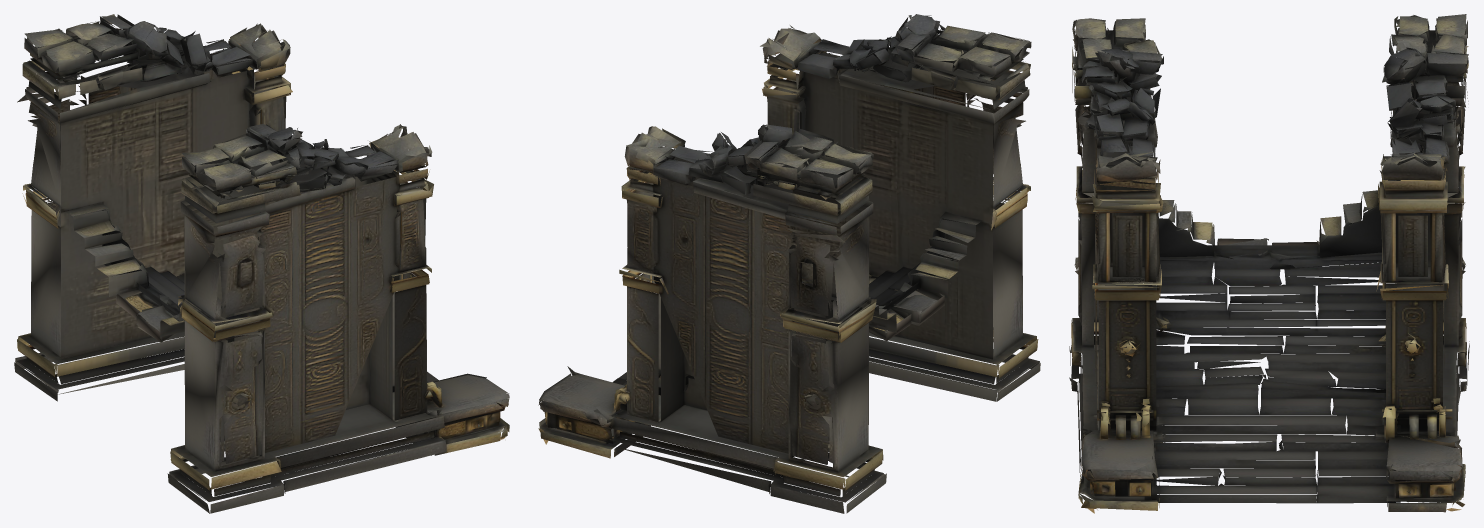
The model's file is ch8_grand_collapsed_stairway_LOD2.glb.
3 renders of one model, left to right at view 1: azimuth 30°, elevation 25°; view 2: azimuth 150°, elevation 25°; view 3: azimuth 270°, elevation 25°, orthographic. The views are drawn at different scales.
Parts seen in each view (by area): view 1: tripo_node_536b5fd1-2f6e-41d4-aba5-11aede7290c5; view 2: tripo_node_536b5fd1-2f6e-41d4-aba5-11aede7290c5; view 3: tripo_node_536b5fd1-2f6e-41d4-aba5-11aede7290c5.
Part boxes in pixels (<box>): tripo_node_536b5fd1-2f6e-41d4-aba5-11aede7290c5: <box>14,14,509,513</box>; tripo_node_536b5fd1-2f6e-41d4-aba5-11aede7290c5: <box>538,14,1040,513</box>; tripo_node_536b5fd1-2f6e-41d4-aba5-11aede7290c5: <box>1069,14,1469,513</box>.
Size of the model in its own units: 0.9348 by 0.9919 by 1.
Materials: 1 (1 with a texture image).
